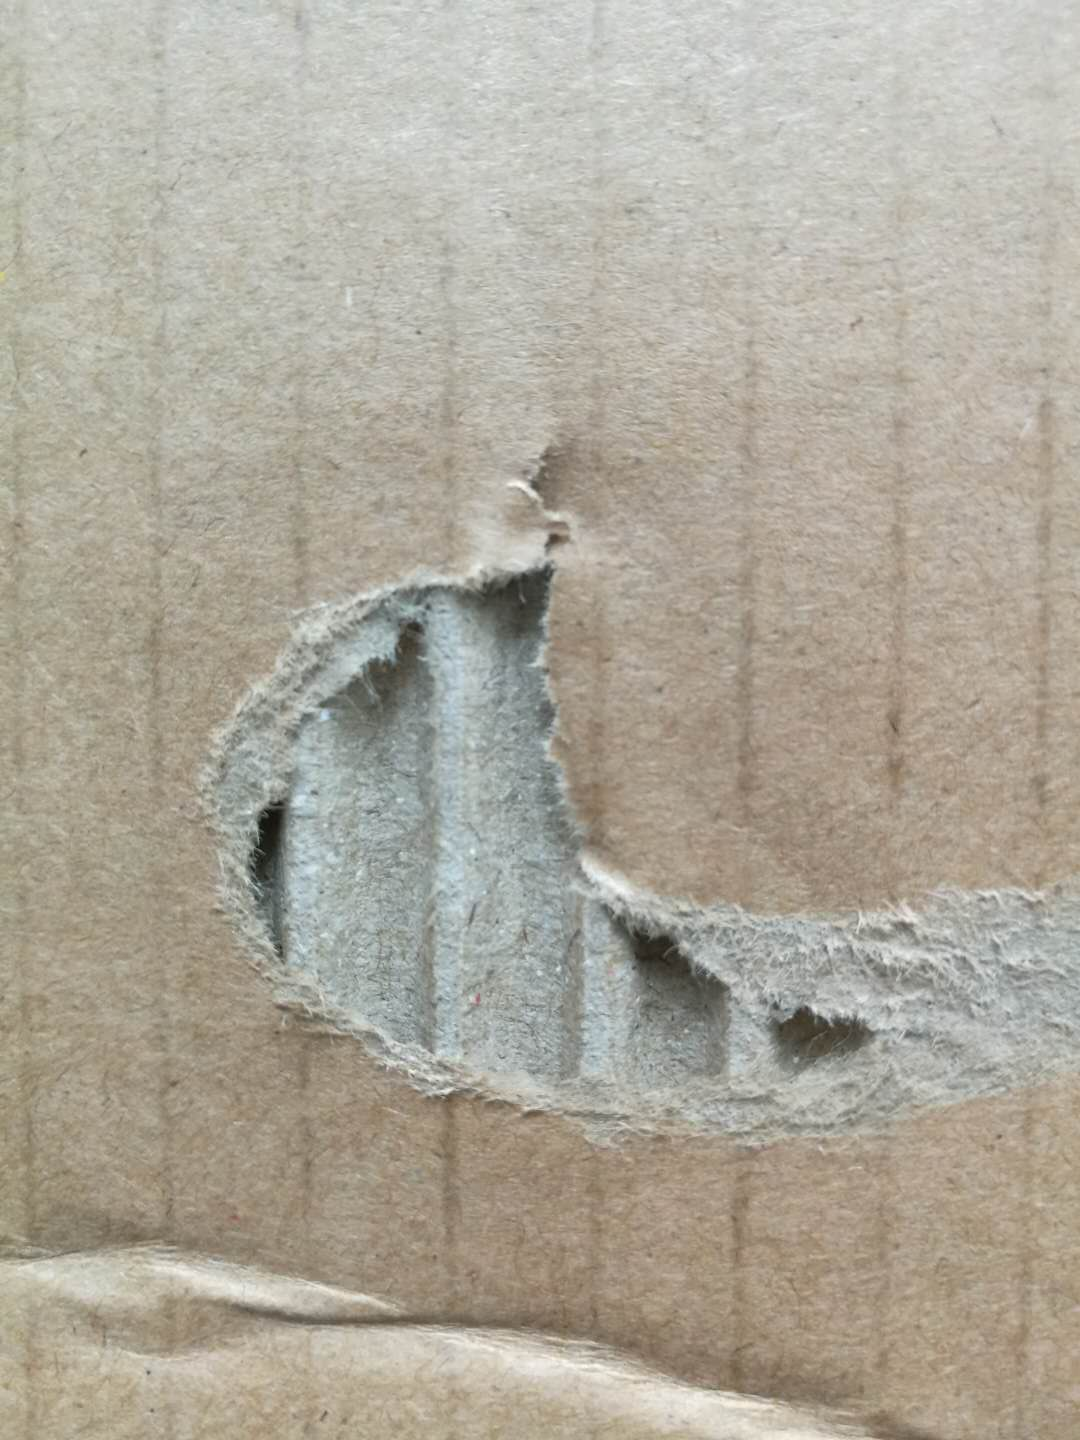defect: (166, 422, 1080, 1188), (3, 1159, 993, 1440)
